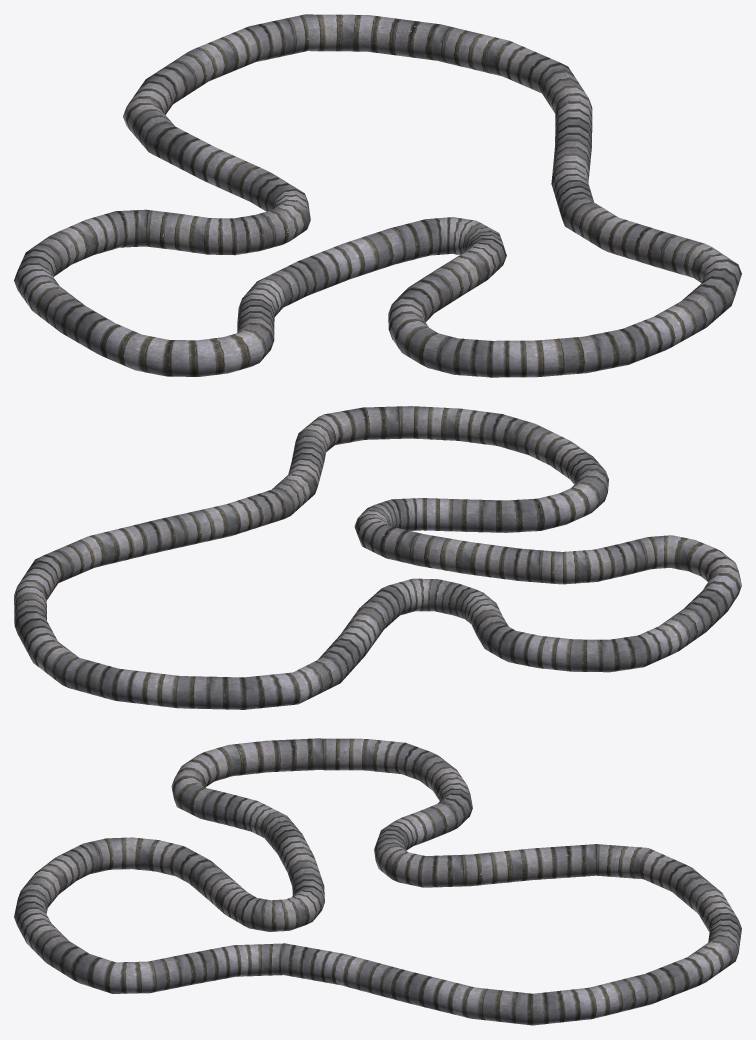
3 views of the same model, one above another, from view 1: azimuth 30°, elevation 25°; view 2: azimuth 150°, elevation 25°; view 3: azimuth 270°, elevation 25° (orthographic). The views are drawn at different scales.
Parts seen in each view (by area): view 1: Line001; view 2: Line001; view 3: Line001.
Part boxes in pixels (x1=…): Line001: x1=14, y1=14, x2=741, y2=377; Line001: x1=14, y1=406, x2=741, y2=709; Line001: x1=14, y1=738, x2=741, y2=1025.
Size of the model in its own units: 1027 by 48.92 by 1175.
